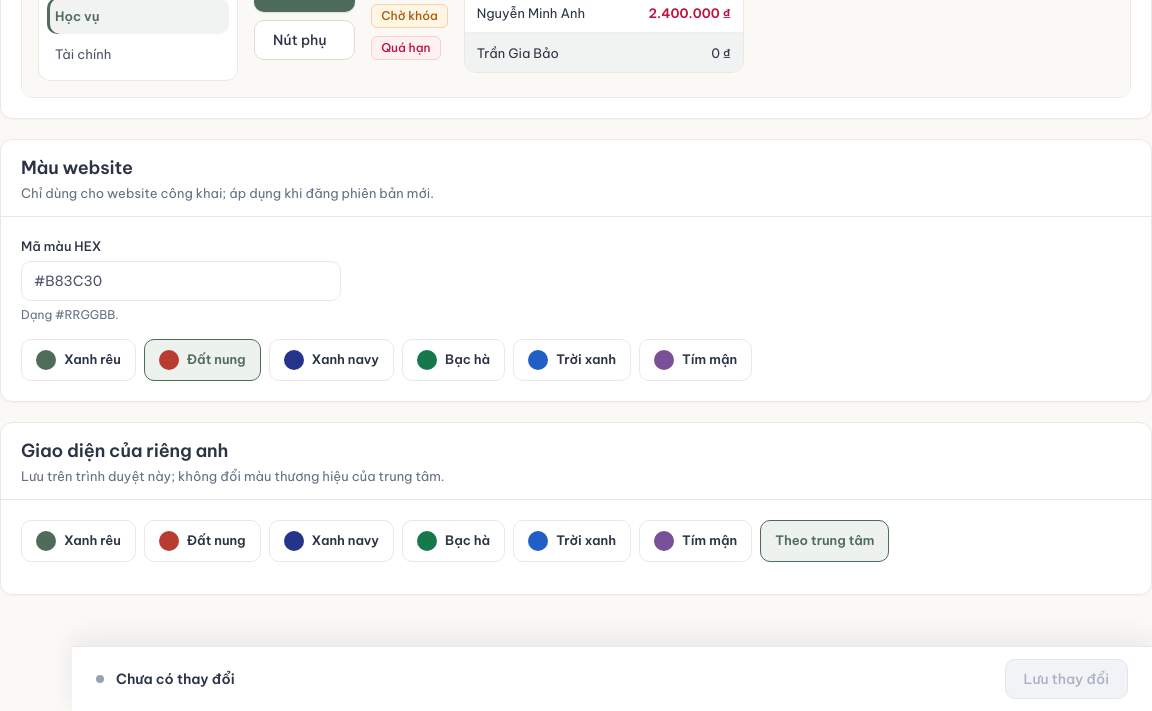
Test: branding page › stores the personal palette in this browser when no writer is injected
This screenshot has width=1152, height=711.
(page scrolled)
What coordinates should you click on to do the following:
click the button "Đất nung" below "Giao diện của riêng anh"
I would click on:
 (202, 541)
Its box is [144,520,261,562].
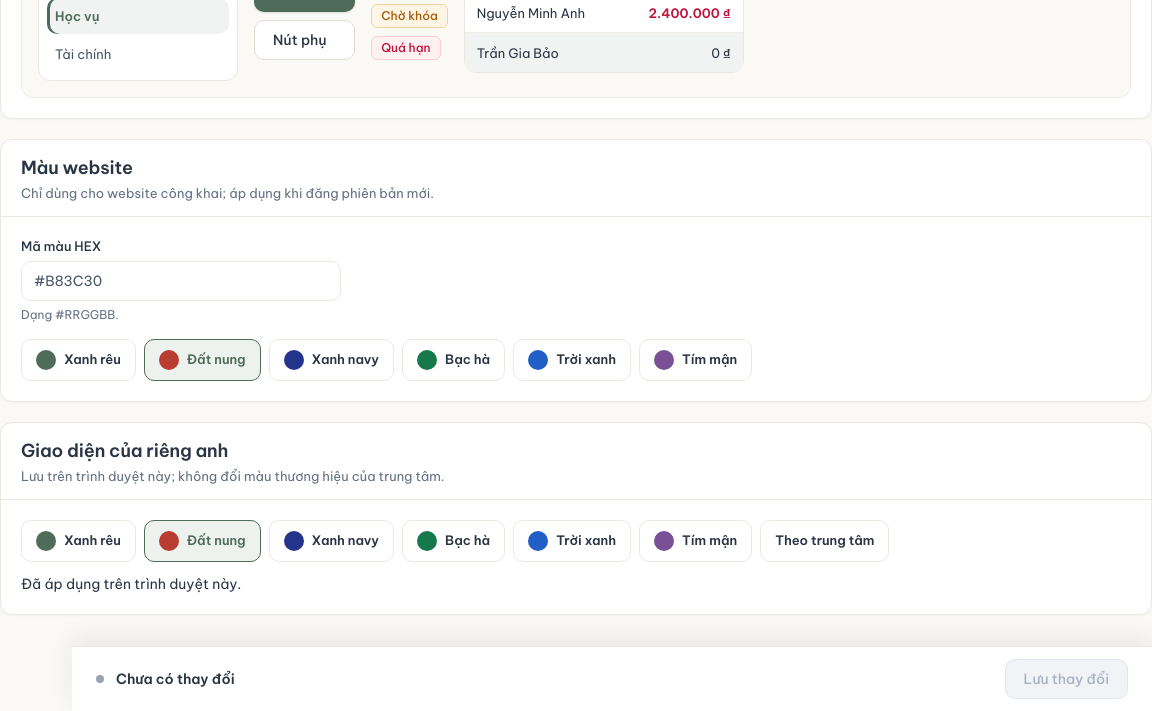
expect the message reads "Đã áp dụng trên trình duyệt này.": met, box [21,575,241,593]
What coordinates should you click on to do the following:
click the button "Theo trung tâm"
I would click on:
 (825, 541)
Its box is [760,520,889,562].
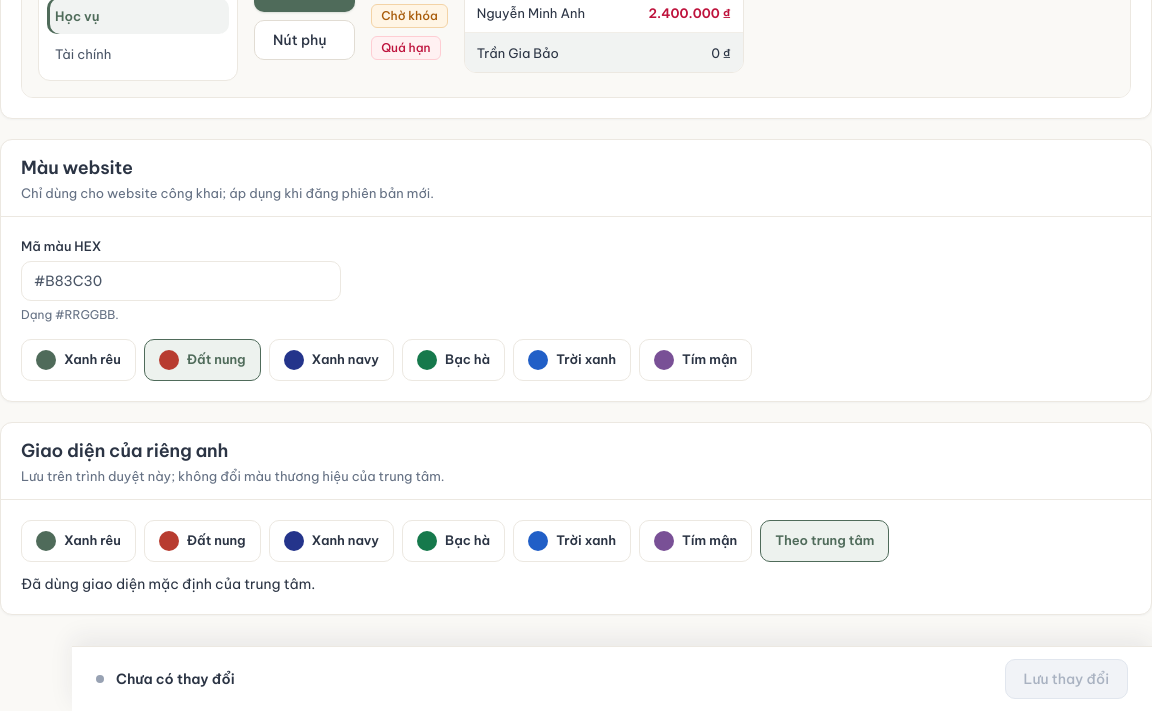
expect the message reads "Đã dùng giao diện mặc định của trung tâm.": met, box [21,575,315,593]
What coordinates should you click on to do the following:
click the button "Bạc hà" below "Giao diện của riêng anh"
I would click on:
 (454, 541)
Its box is [402,520,505,562].
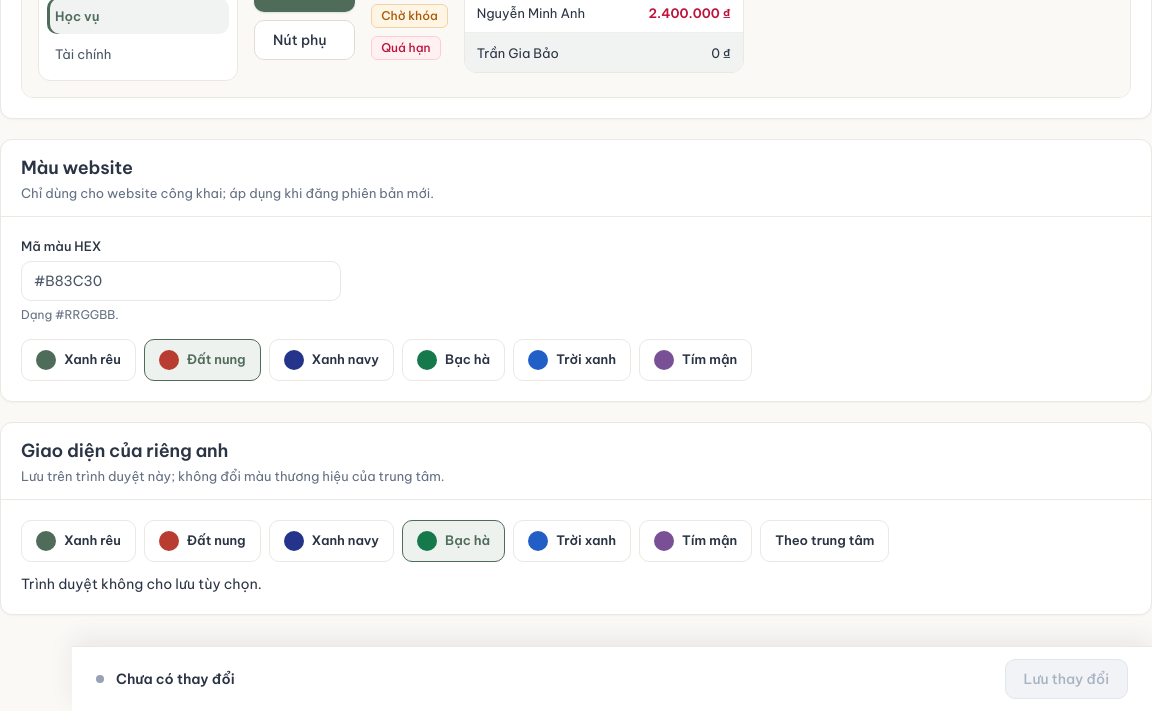
expect the message reads "Trình duyệt không cho lưu tùy chọn.": met, box [21,575,262,593]
